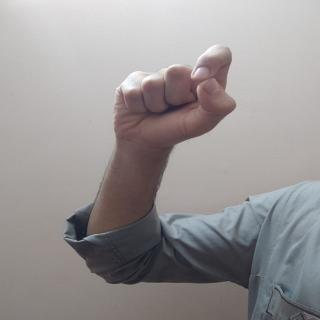FAA: (102, 38, 242, 160)
